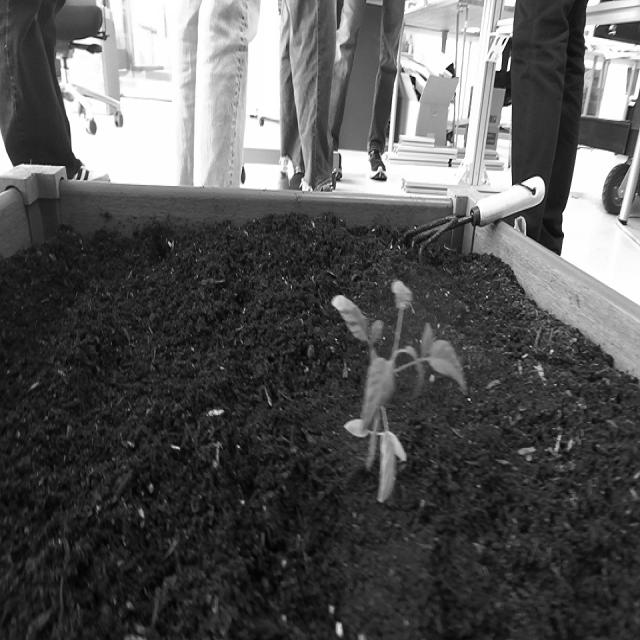Healthy: (329, 274, 470, 508)
